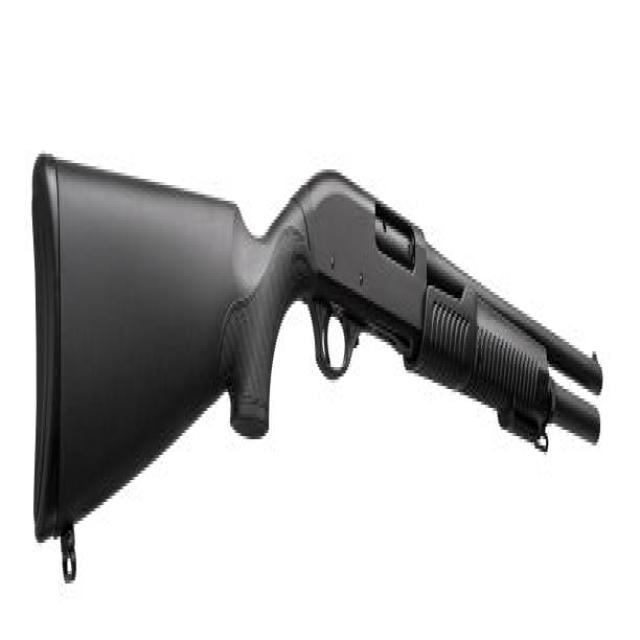rifle: (24, 145, 612, 604)
